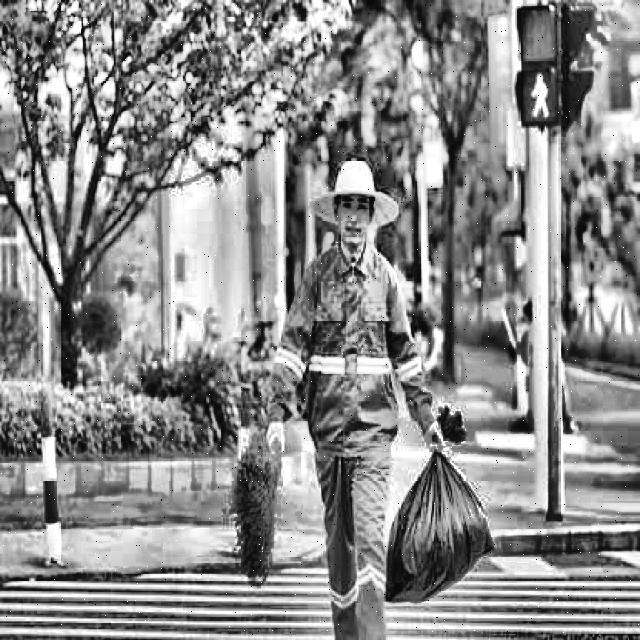Trashbag: (379, 453, 500, 601)
